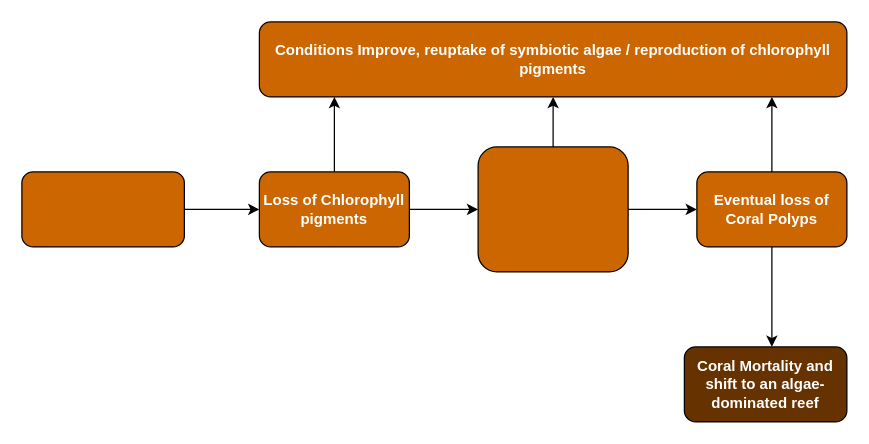
Image size: 869x444. Some labels were removed from this diagram. The shapes that lost their labels are listed below. From the top down, each one's centre as x and y in pixels, then its label:
At (102,209): "Healthy Corals with endosymbiotic algae".
At (552,209): "Loss of Algae from within Coral tissue & production of damaging oxygen radicals".
